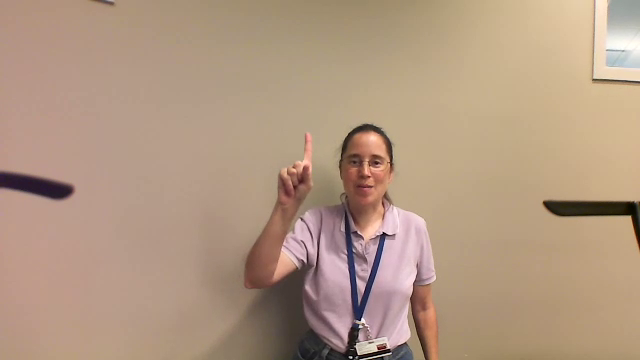up: (272, 125, 317, 210)
